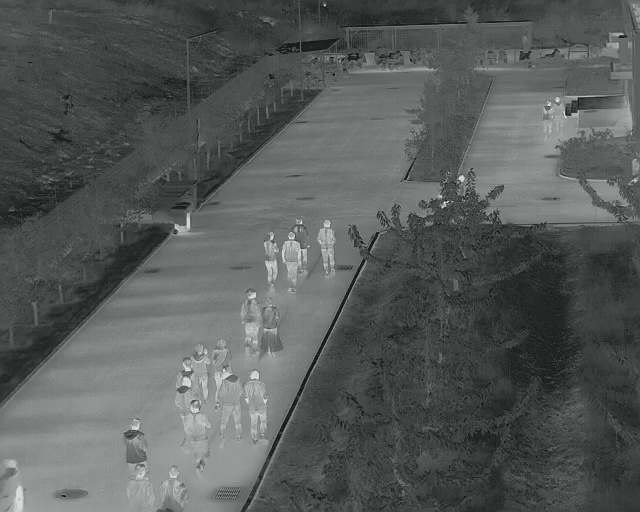person: (184, 400, 216, 475), (216, 366, 245, 448), (242, 369, 268, 445), (236, 287, 261, 361), (280, 230, 305, 293), (125, 462, 156, 512), (260, 295, 284, 359), (316, 218, 342, 277), (160, 464, 190, 511), (122, 416, 149, 463), (261, 230, 282, 290), (191, 342, 210, 396), (174, 377, 198, 411), (540, 99, 555, 142), (292, 217, 311, 249), (554, 95, 567, 140), (213, 337, 232, 367)
